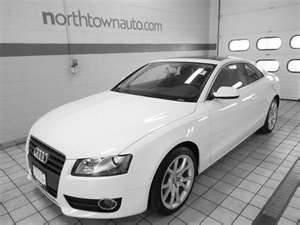car: (21, 55, 283, 223)
